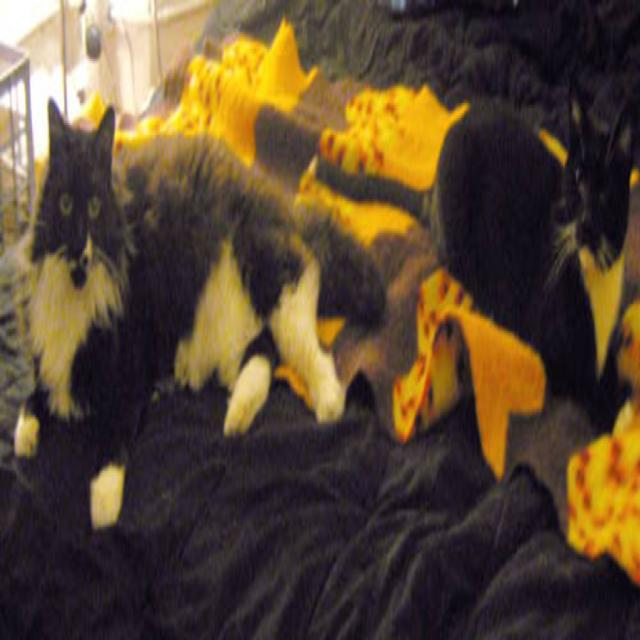Cat: (10, 88, 388, 530), (418, 81, 636, 427)
